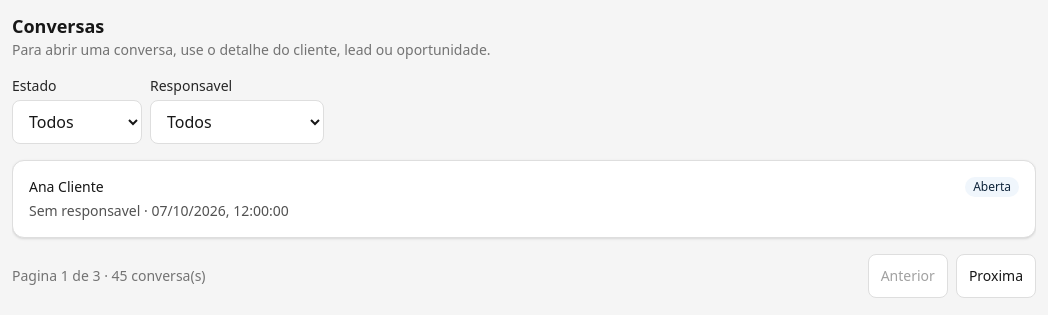
Scenario: ConversationListPage › pagina: Proxima e Anterior
Expected: the text "Pagina 1 de 3 · 45 conversa(s)" is shown, [12,266,206,286]
Expected: the button "Anterior" is disabled, [868,254,948,298]
Click the button "Proxima" at (996, 276), box [956,254,1036,298]
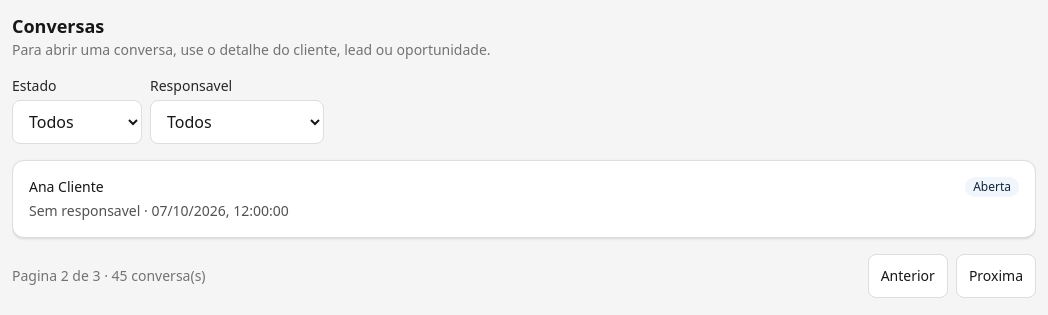
Now the text "Pagina 2 de 3 · 45 conversa(s)" is shown, box [12,266,206,286]
